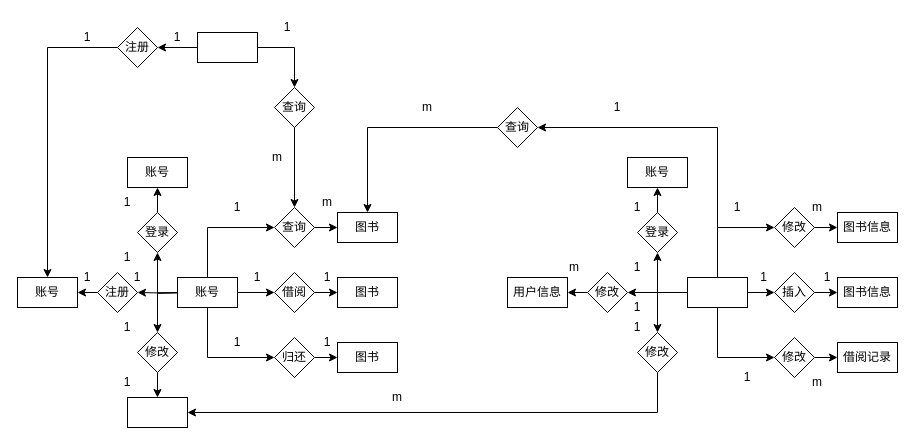
Some shapes in this 915 by 445 pixel diagram are drawn without their labels. Each missing label, with the centre of its shape:
游客: the point at 227,47
用户密码: the point at 157,412
管理员: the point at 717,292
